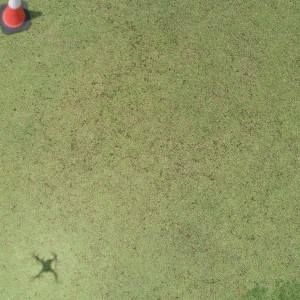traffic cone: (1, 1, 32, 35)
